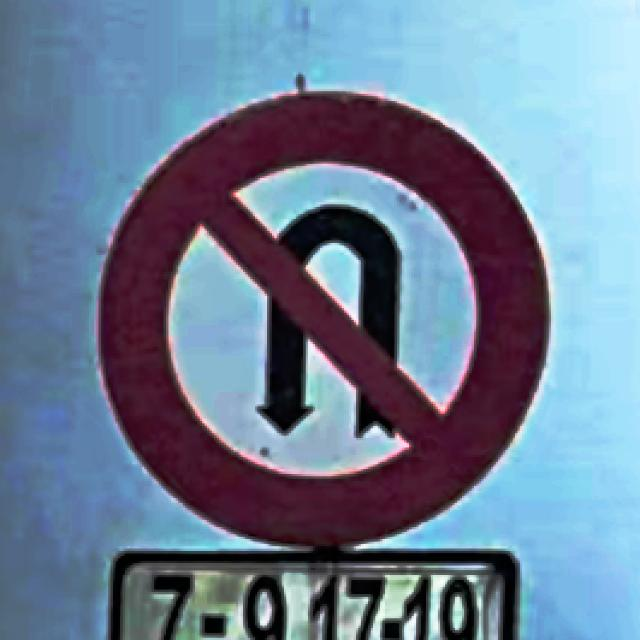nouturn: (96, 91, 546, 549)
